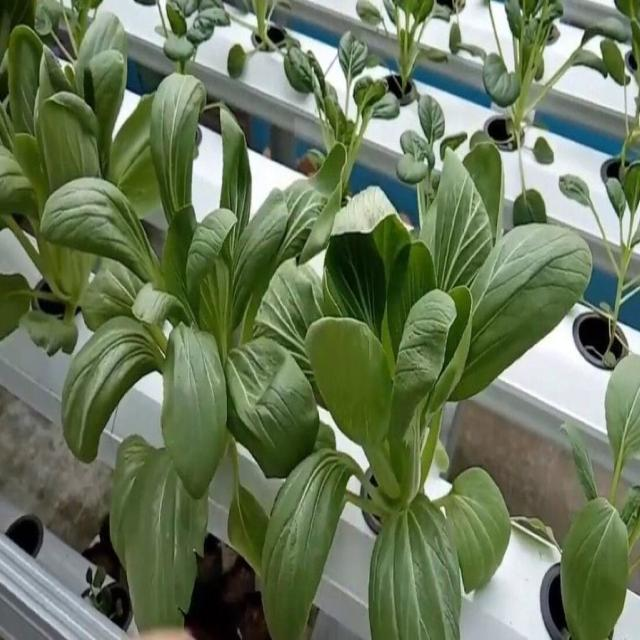pakcoy_tidak_sehat: (47, 131, 382, 526)
